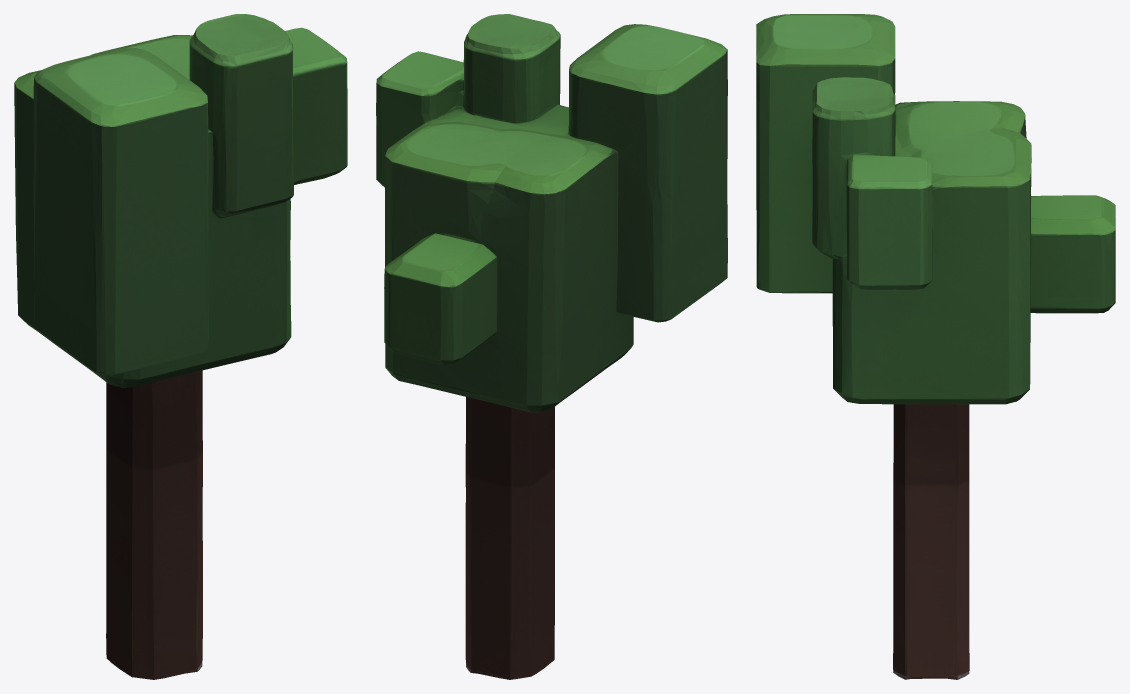
The model's file is forest-tree.glb.
3 views of the same model, side by side, from view 1: azimuth 30°, elevation 25°; view 2: azimuth 150°, elevation 25°; view 3: azimuth 270°, elevation 25° (orthographic). The views are drawn at different scales.
Visible parts, largest first — view 1: world; view 2: world; view 3: world.
Part boxes in pixels (<box>): world: <box>14,14,347,679</box>; world: <box>376,14,727,679</box>; world: <box>756,14,1115,679</box>.
Bounding box in the file's own units: 0.482 × 0.9953 × 0.5477.
Materials: 1 (1 with a texture image).
